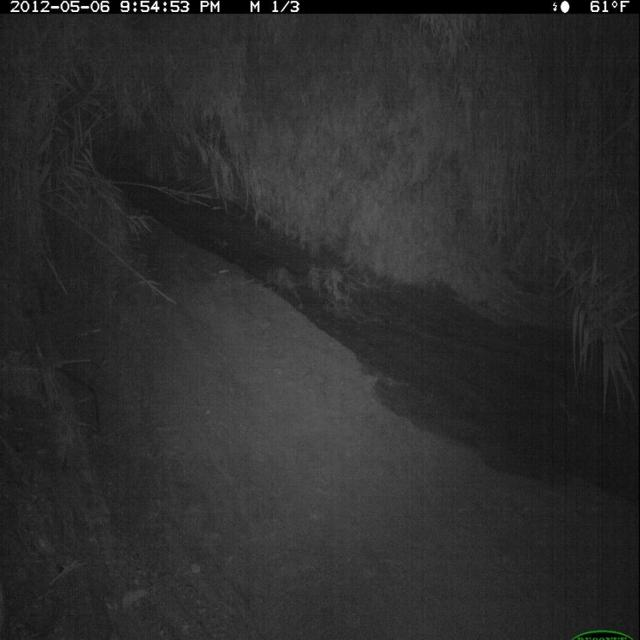opossum: (262, 259, 320, 318)
